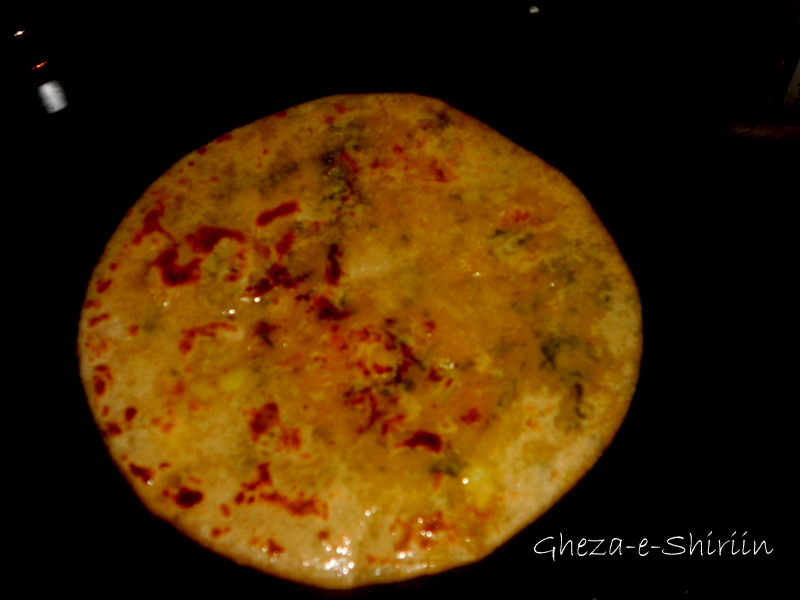aloo_paratha: (77, 71, 644, 585)
